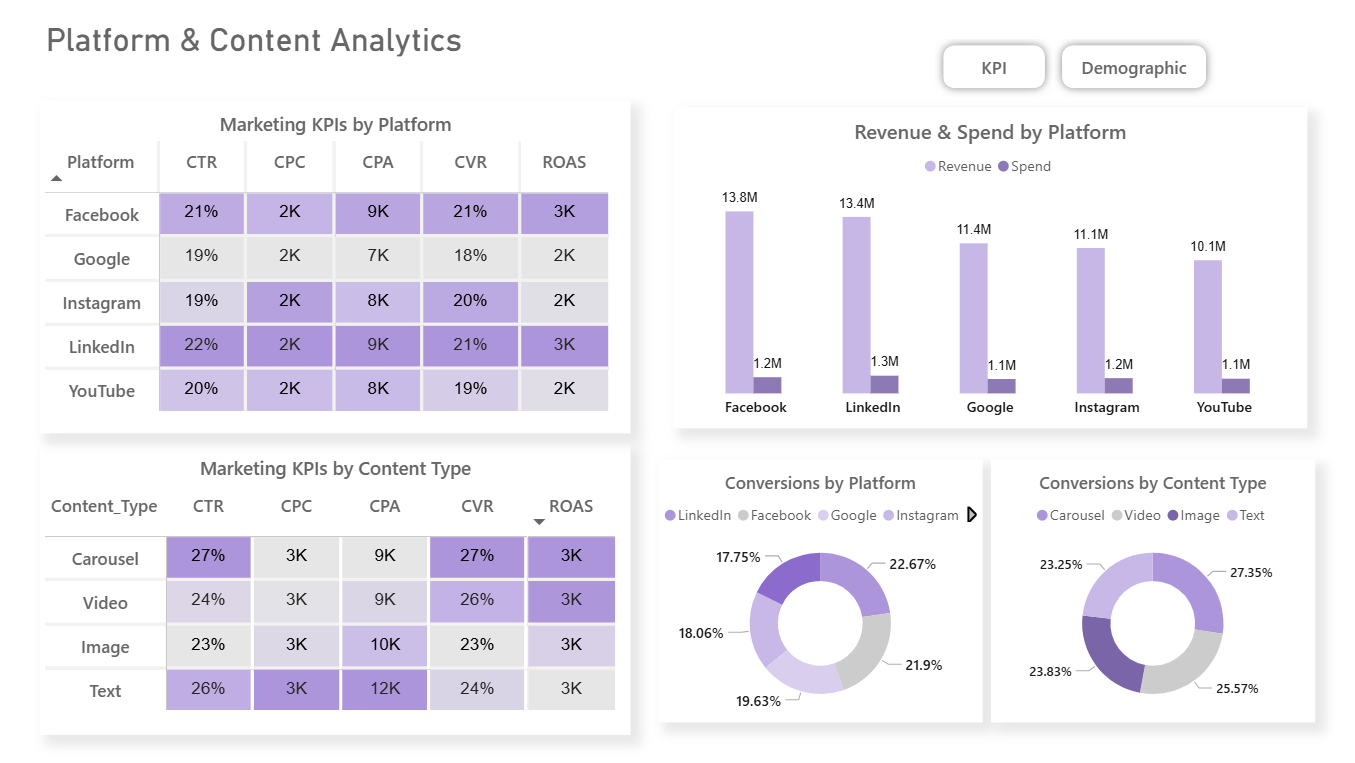

Layout of this report page (visuals, bound fields, positions):
{"tool":"powerbi","page":{"name":"Content Analysis","canvas":[1280,720],"ordinal":2},"visuals":[{"type":"donutChart","title":"Conversions by Platform","fields":{"Category":["Sheet1.Platform"],"Y":["Sum(Sheet1.Conversions)"]},"box":[625.6,433.5,301.4,245],"z":0},{"type":"pivotTable","title":"Marketing KPIs by Content Type","fields":{"Rows":["Sheet1.Content_Type"],"Values":["Sum(Sheet1.CTR)","Sum(Sheet1.CPC)","Sum(Sheet1.CPA)","Sum(Sheet1.Conversion_Rate)","Sum(Sheet1.ROAS)"]},"box":[50.4,420.3,549.9,270.2],"z":1000},{"type":"pivotTable","title":"Marketing KPIs by Platform","fields":{"Rows":["Sheet1.Platform"],"Values":["Sum(Sheet1.CTR)","Sum(Sheet1.CPC)","Sum(Sheet1.CPA)","Sum(Sheet1.Conversion_Rate)","Sum(Sheet1.ROAS)"]},"box":[50.4,100,549.9,309.8],"z":2000},{"type":"clusteredColumnChart","title":"Revenue & Spend by Platform","fields":{"Y":["Sum(Sheet1.Revenue)","Sum(Sheet1.Spend)"],"Category":["Sheet1.Platform"]},"box":[640,105.7,589.6,299],"z":3000},{"type":"donutChart","title":"Conversions by Content Type","fields":{"Category":["Sheet1.Content_Type"],"Y":["Sum(Sheet1.Conversions)"]},"box":[935.4,433.5,301.4,245],"z":4000},{"type":"card","fields":{"Values":["Sheet1.Platform & Content title"]},"box":[50,20,398.8,44.2],"z":5000},{"type":"actionButton","box":[882,41,110.5,55.8],"z":6000},{"type":"actionButton","box":[993,40.7,150,55.8],"z":7000}]}

Visuals, with their boxes in screenshot pixels (x1, y1, x2, y2), scaled from the page's 1280x720 canvas onto the 1355x763 screenshot:
"Conversions by Platform" donutChart: 662, 459, 981, 719
"Marketing KPIs by Content Type" pivotTable: 53, 445, 635, 732
"Marketing KPIs by Platform" pivotTable: 53, 106, 635, 434
"Revenue & Spend by Platform" clusteredColumnChart: 678, 112, 1302, 429
"Conversions by Content Type" donutChart: 990, 459, 1309, 719
card - Sheet1.Platform & Content title: 53, 21, 475, 68
actionButton: 934, 43, 1051, 103
actionButton: 1051, 43, 1210, 102
